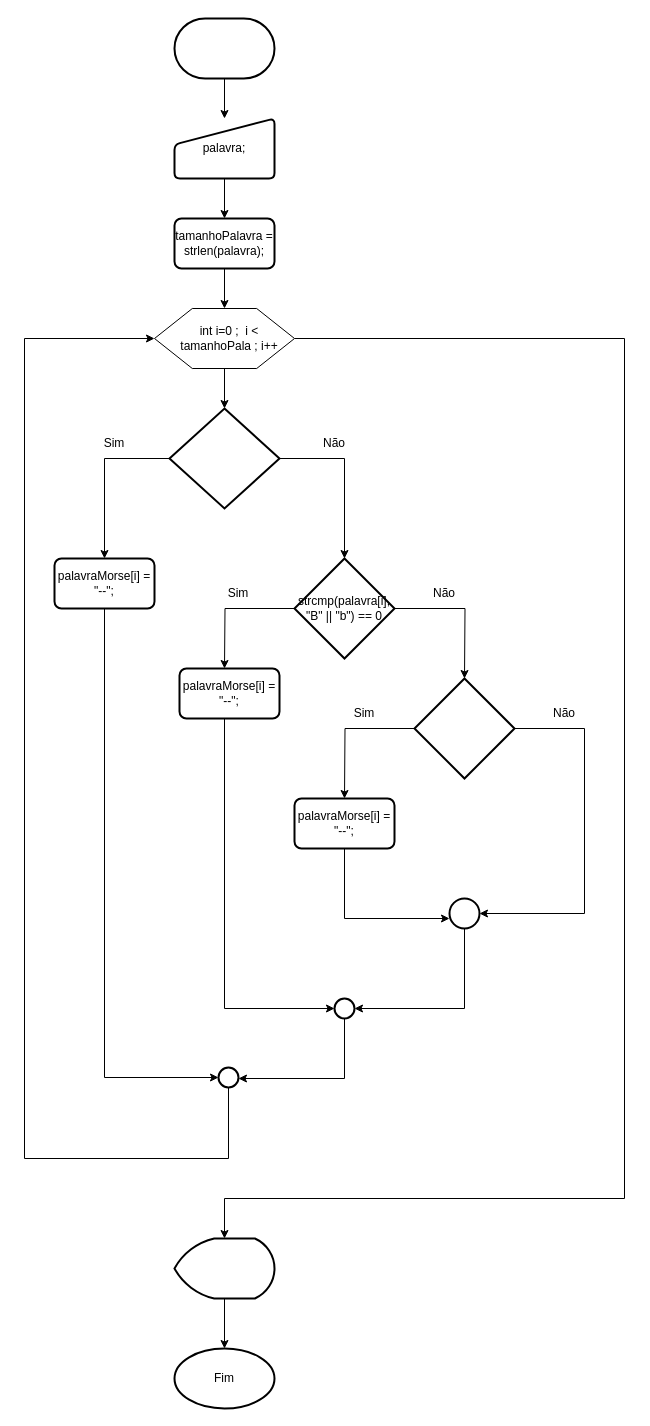
Image size: 650x1426. Some labels were removed from this diagram. Here are the shapes that lost their labels. From the top down, the centre of each, then its label:
(224,48): Inicio
(224,458): strcmp(palavra[i], "A" || "a") == 0
(464,728): strcmp(palavra[i], "c" || "c") == 0
(224,1268): palavraMorse
